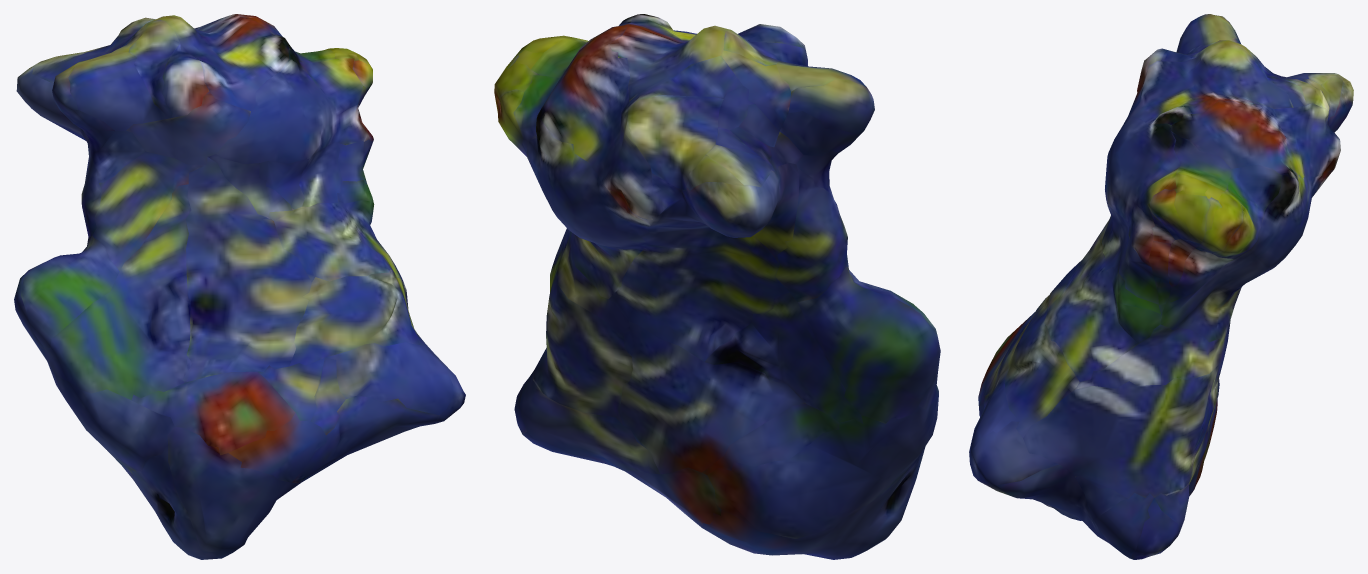
File: hall.glb
3 views of the same model, side by side, from view 1: azimuth 30°, elevation 25°; view 2: azimuth 150°, elevation 25°; view 3: azimuth 270°, elevation 25° (orthographic). The views are drawn at different scales.
Size of the model in its own units: 0.3251 by 0.3974 by 0.2844.
Materials: 1 (1 with a texture image).
